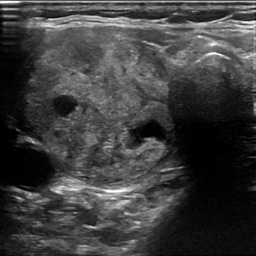mass: (21, 36, 168, 182)
